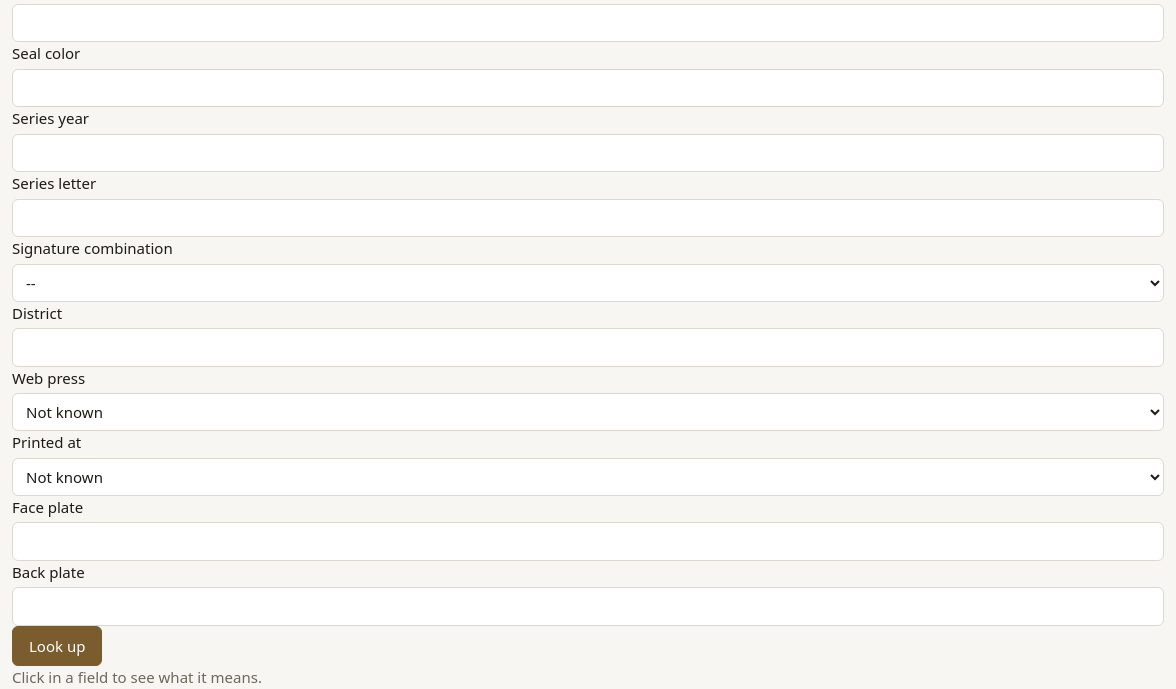
Test case: FriedbergLookup › says so when the browser blocks the search window
This screenshot has width=1176, height=689.
(page scrolled)
What coordinates should you click on to do the following:
click the button "Look up"
I would click on:
 (57, 646)
Its box is [12,626,102,666].
(page scrolled)
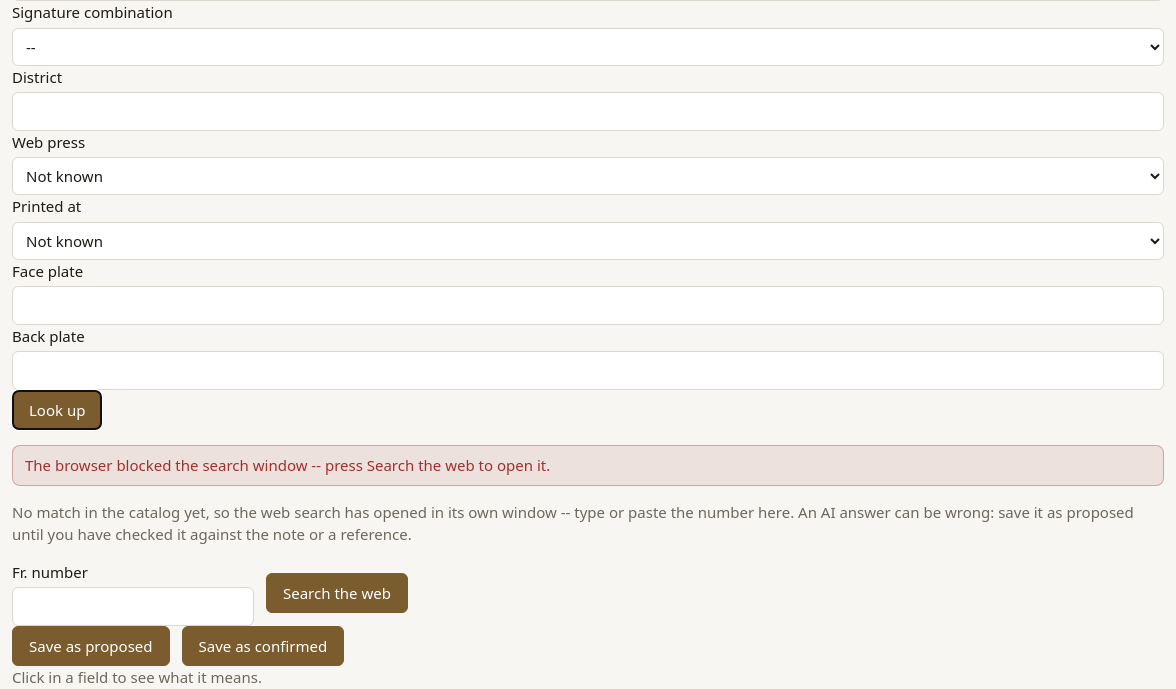
Expected: the text "blocked the search window" is shown, [25,455,550,475]
Expected: the button "Search the web" is enabled, [266,573,408,613]
